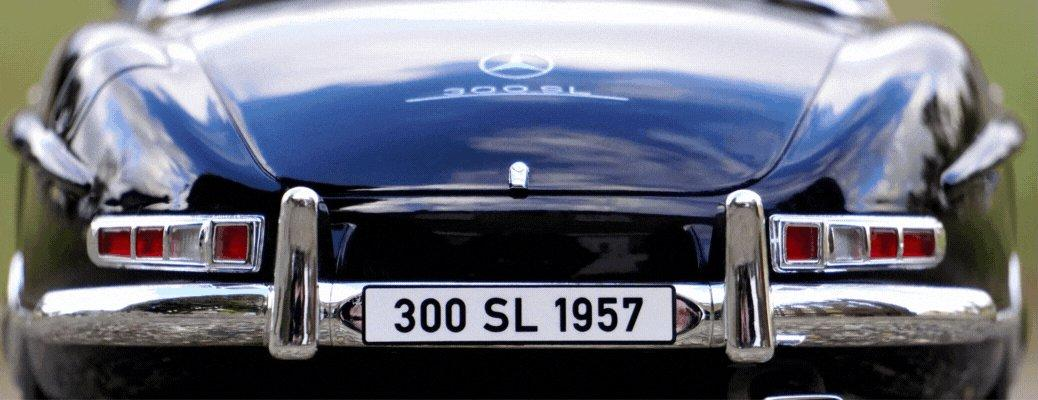Liscence Plate: (365, 280, 677, 344)
